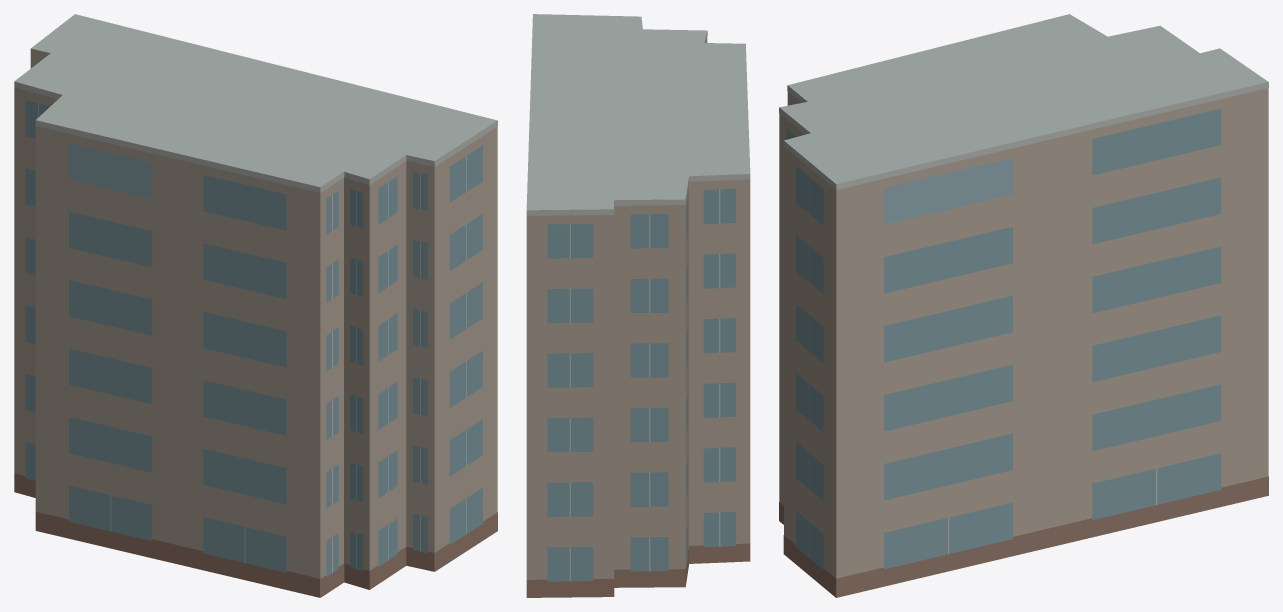
File: survey-upis-32968054.glb
The picture shows the model from 3 angles, left to right: view 1: azimuth 30°, elevation 25°; view 2: azimuth 150°, elevation 25°; view 3: azimuth 270°, elevation 25°; orthographic projection. The views are drawn at different scales.
Parts seen in each view (by area): view 1: survey-upis-32968054.tmp; view 2: survey-upis-32968054.tmp; view 3: survey-upis-32968054.tmp.
Boxes of the visible parts, x1,y1,x2,y2 form: survey-upis-32968054.tmp: (14,14,497,597); survey-upis-32968054.tmp: (526,14,750,597); survey-upis-32968054.tmp: (779,14,1268,597).
Bounding box in the file's own units: 15.18 × 17.19 × 18.45.
